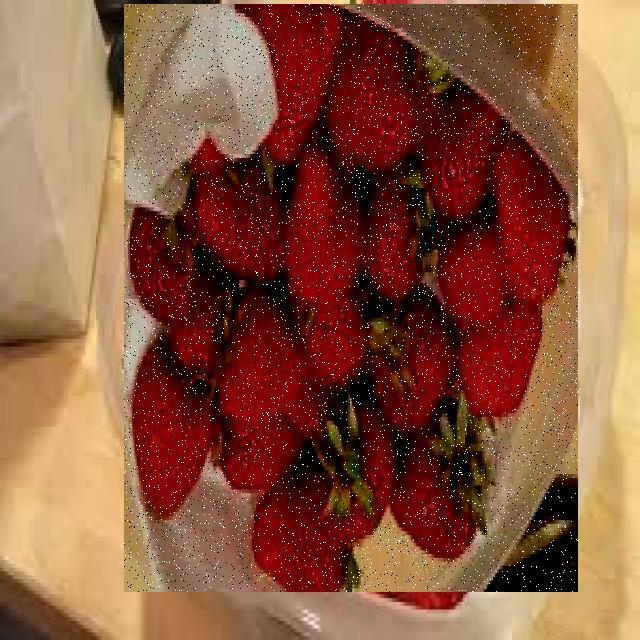Straw Berry: (124, 4, 578, 592)
